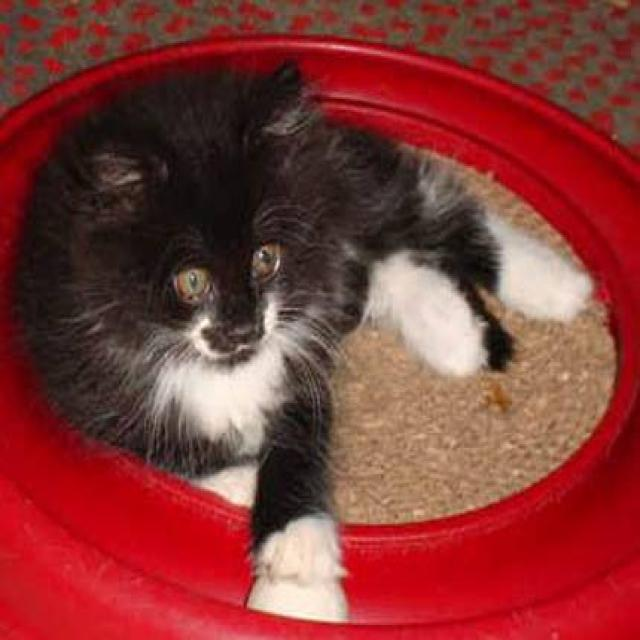cat: (10, 58, 608, 621)
